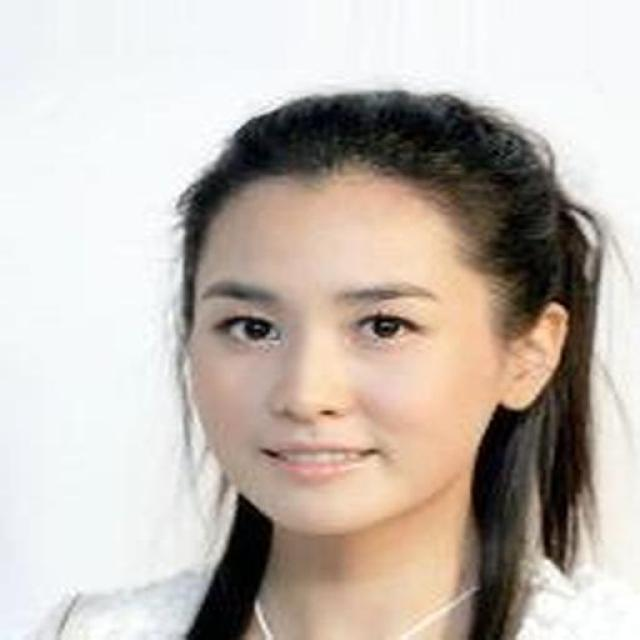bareface: (183, 96, 544, 512)
